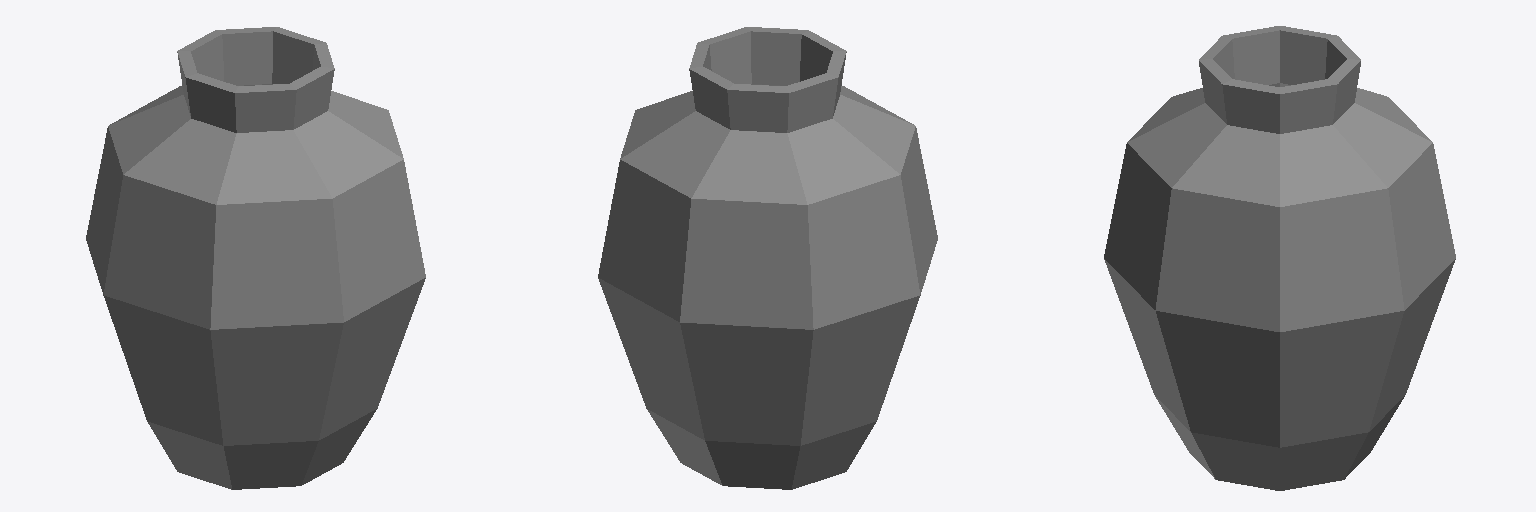
Rendered from pot_03.obj.
3 views of the same model, side by side, from view 1: azimuth 30°, elevation 25°; view 2: azimuth 150°, elevation 25°; view 3: azimuth 270°, elevation 25° (orthographic).
Bounding box in the file's own units: 0.4922 × 0.6075 × 0.4922.